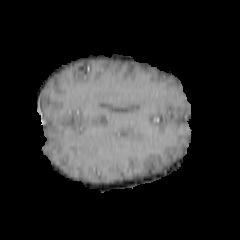glioma: (78, 134, 114, 165)
